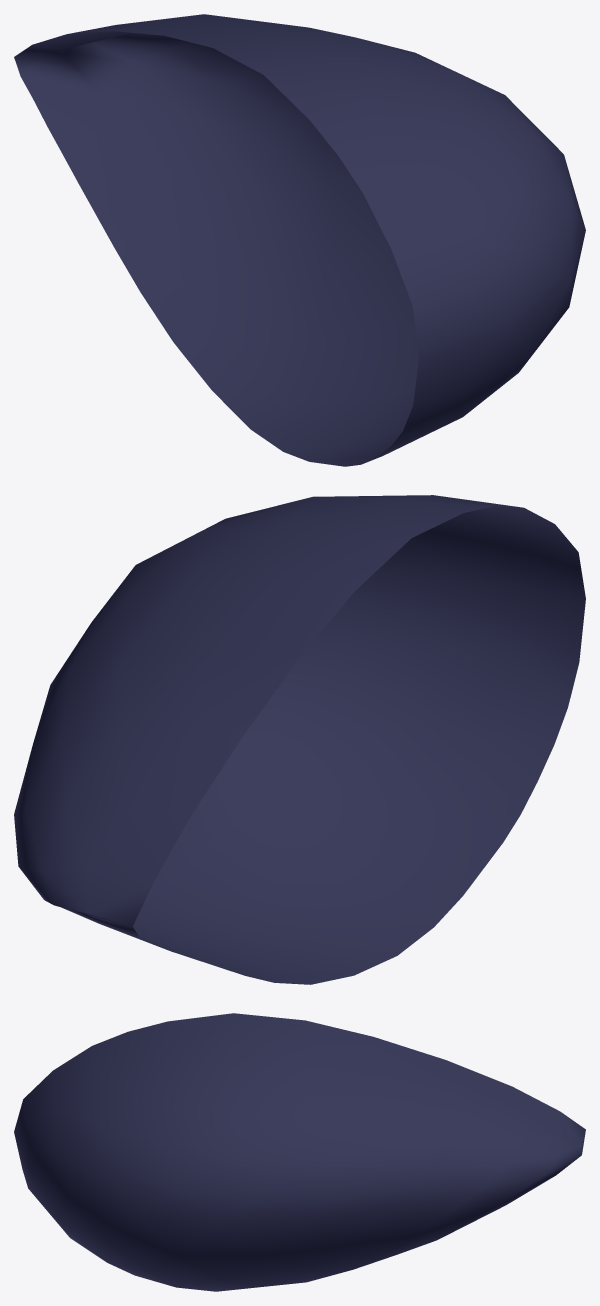
File: C0.Cowl.2c.Export.glb
3 renders of one model, top to bottom at view 1: azimuth 30°, elevation 25°; view 2: azimuth 150°, elevation 25°; view 3: azimuth 270°, elevation 25°, orthographic. The views are drawn at different scales.
Visible parts, largest first — view 1: Icosphere; view 2: Icosphere; view 3: Icosphere.
Part boxes in pixels (x1,y1,x2,y2): Icosphere: (14, 14, 585, 466); Icosphere: (14, 495, 585, 984); Icosphere: (14, 1013, 585, 1291).
Size of the model in its own units: 0.7811 by 0.9933 by 2.
